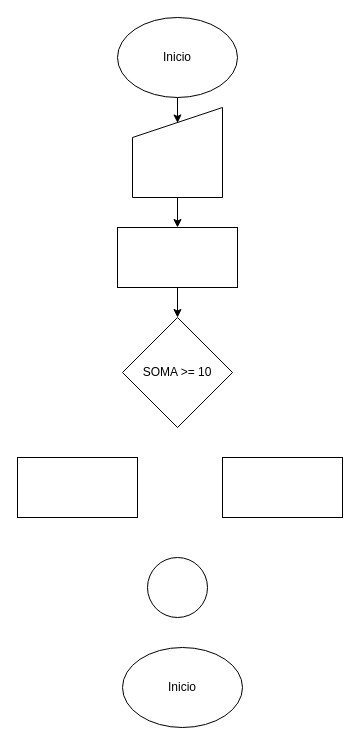
Some shapes in this 360 by 745 pixel diagram are drawn without their labels. Here are the shapes that lost their labels. From the top down, the centre of each, then its label:
point (177, 152): A, B
point (177, 257): SOMA <- A + B
